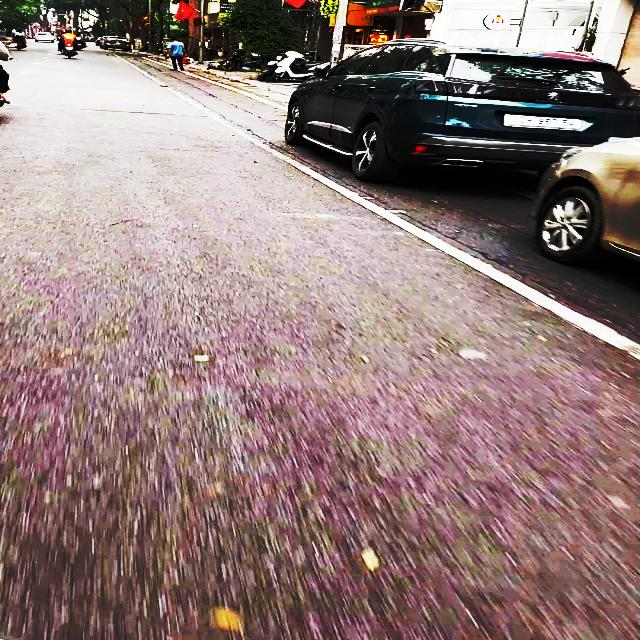license_plate: (504, 114, 584, 132)
